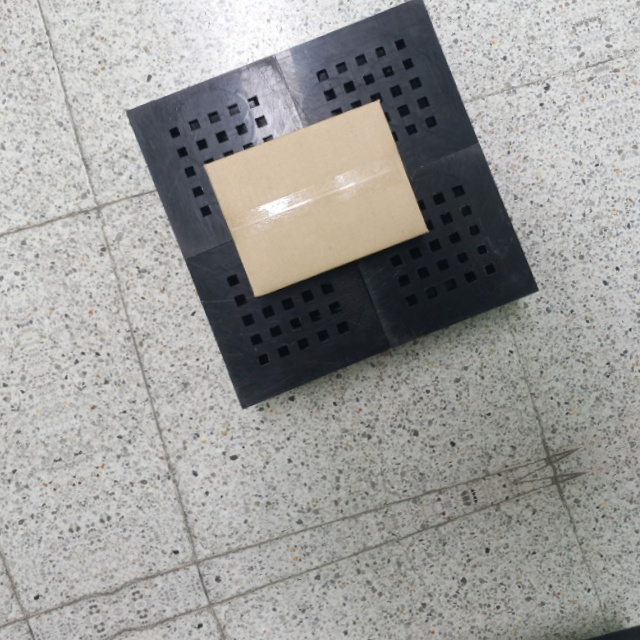box: (202, 96, 428, 302)
pallet: (116, 0, 555, 414)
